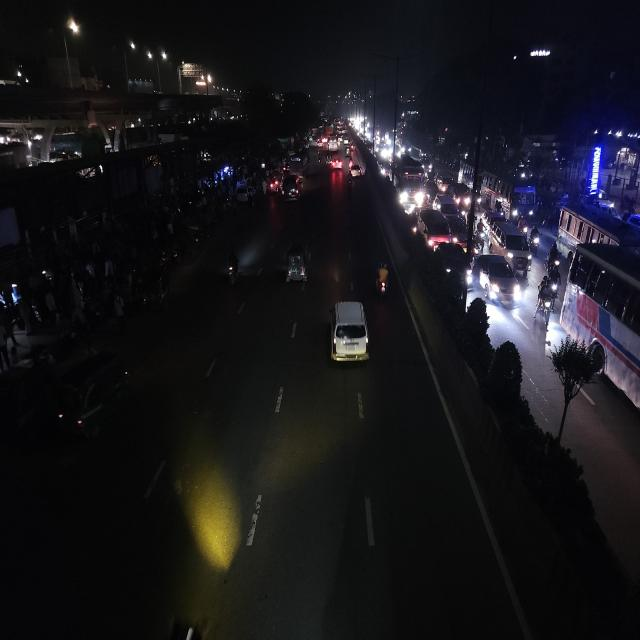bus: (561, 242, 640, 429), (556, 202, 640, 262), (479, 170, 536, 219), (391, 155, 425, 211)
car: (327, 296, 371, 374), (487, 215, 533, 274), (474, 251, 520, 308), (413, 208, 455, 254), (280, 172, 303, 202), (451, 182, 472, 212), (329, 152, 344, 171), (436, 174, 449, 194), (348, 162, 362, 180)
cng: (54, 348, 132, 450), (138, 265, 172, 313), (284, 238, 310, 290), (344, 144, 351, 159)
motorcycle: (535, 275, 554, 330), (373, 258, 391, 302), (224, 247, 242, 290), (546, 240, 562, 272), (528, 224, 543, 255)
